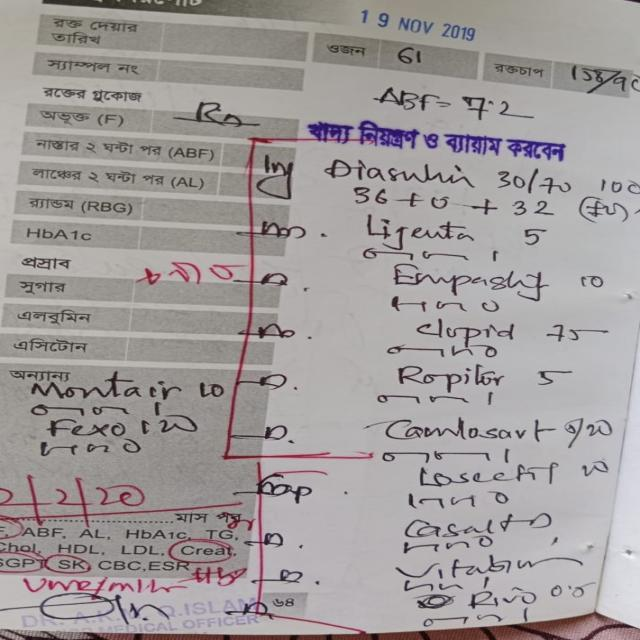Camlosart: (378, 410, 551, 450)
Casalt D: (396, 512, 565, 539)
Clopid: (406, 314, 522, 346)
Diasulin: (320, 152, 480, 191)
Lijenta: (351, 208, 483, 247)
Losectil: (405, 462, 572, 488)
Rivotril: (458, 584, 550, 611)
Ropitor: (391, 360, 512, 393)
Vitabion: (392, 557, 549, 581)
